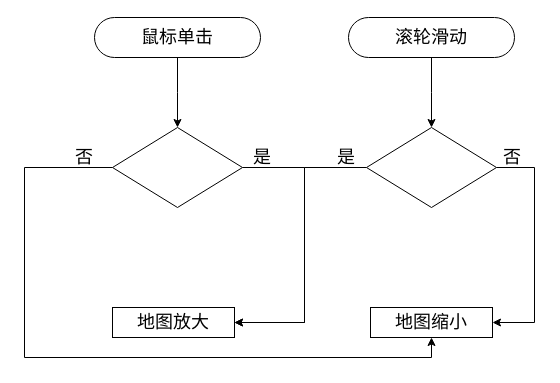
The diagram is 560 pixels wide and 383 high, and some of its shapes have lost their labels. The shapes that lost their labels are listed below. From the top down, each one's centre as x and y in pixels, then its label:
At point 177,167: "点击“+”".
At point 431,167: "滚轮外滑".
